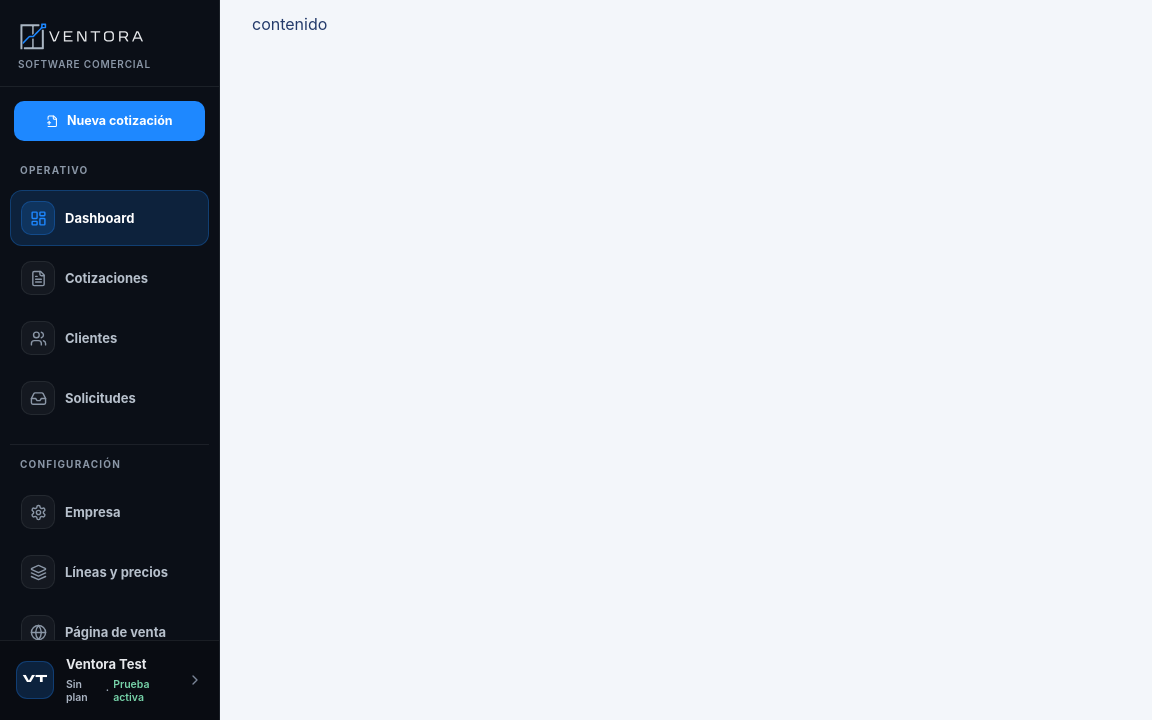
AppShell › sale por la ruta server-side de logout aunque el cierre real siga pendiente
The image size is (1152, 720).
Click the button named "Ventora Test admin" at (110,680), box [0,640,219,719]
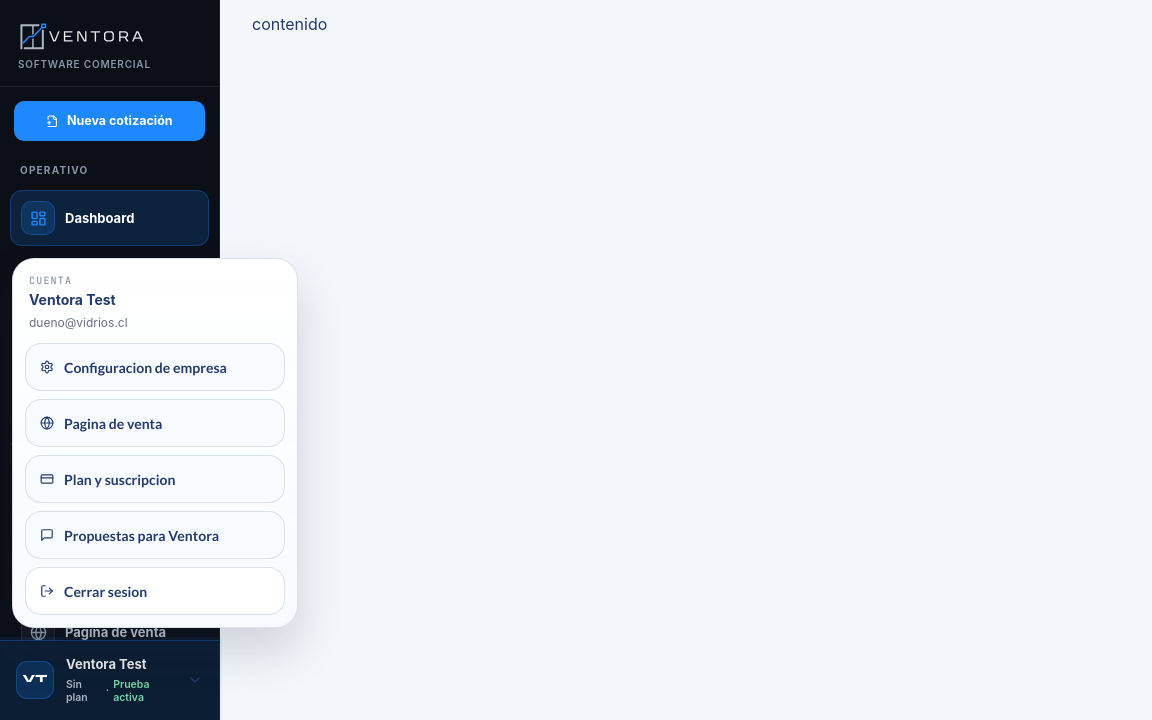
Click the button "Cerrar sesion" at (106,591), box [25,567,285,615]
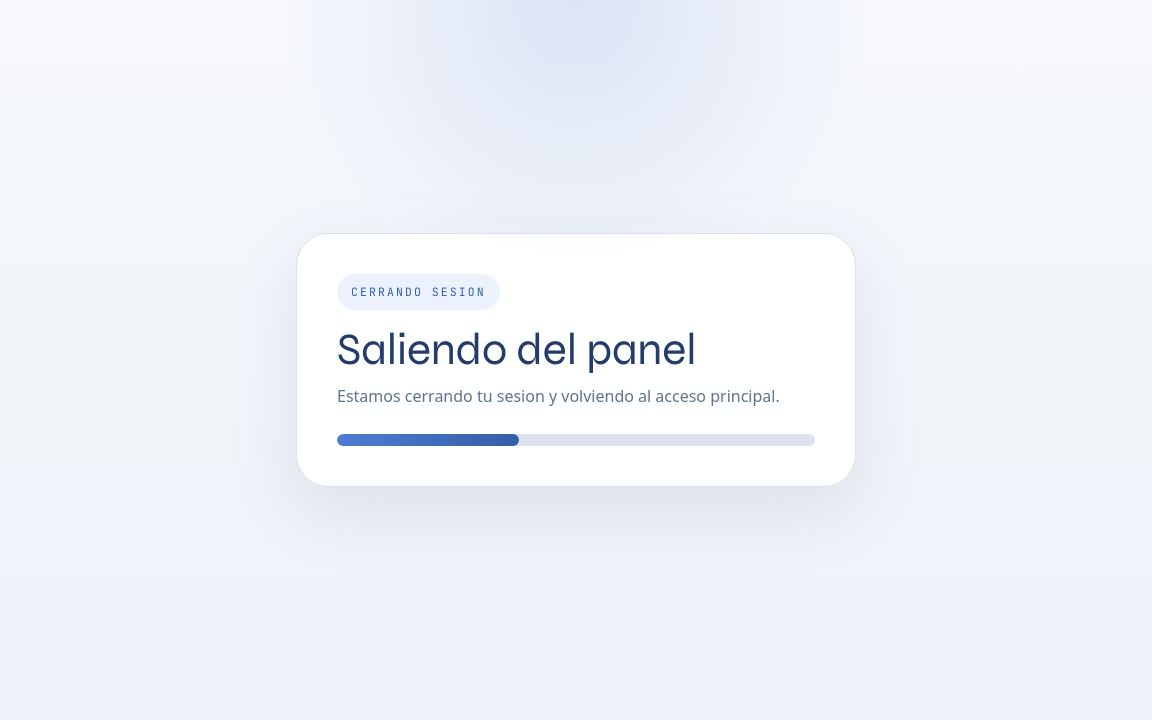
Expected: the heading "Saliendo del panel" is shown, [337,323,696,376]
